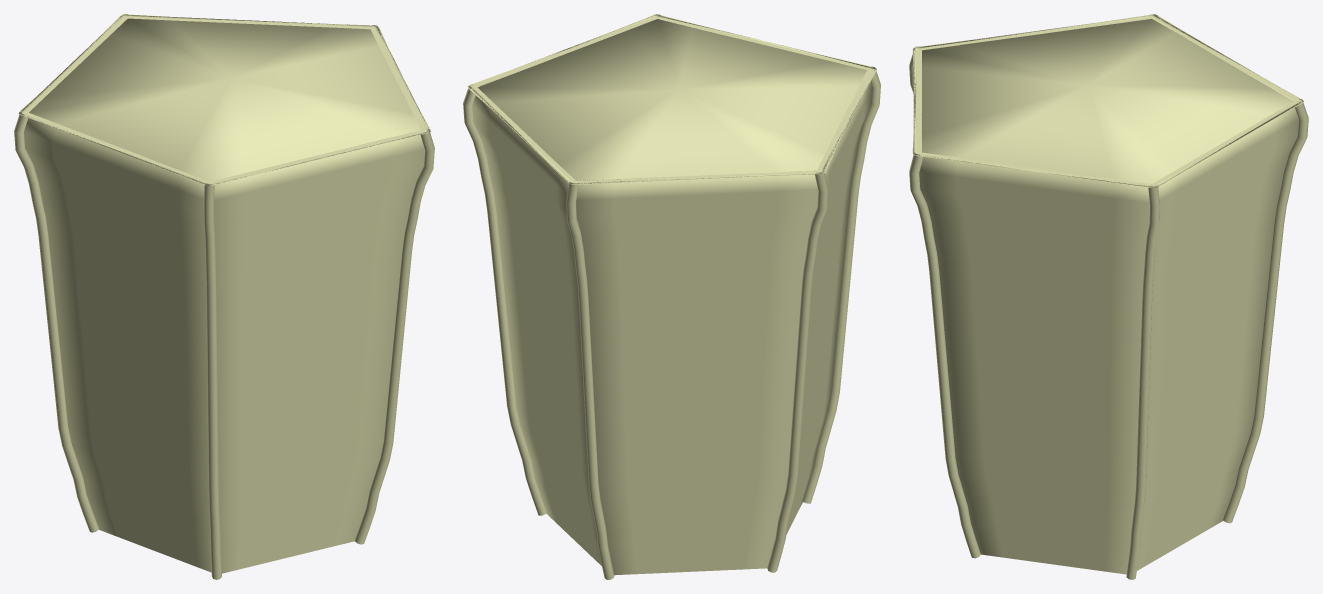
File: MORPHIC_Taiwan_Lantern_FINAL.fbx
The picture shows the model from 3 angles, left to right: view 1: azimuth 30°, elevation 25°; view 2: azimuth 150°, elevation 25°; view 3: azimuth 270°, elevation 25°; orthographic projection.
Visible parts, largest first — view 1: MORPHIC_Taiwan_Lantern; view 2: MORPHIC_Taiwan_Lantern; view 3: MORPHIC_Taiwan_Lantern.
Part boxes in pixels (x1,y1,x2,y2): MORPHIC_Taiwan_Lantern: (14, 14, 434, 579); MORPHIC_Taiwan_Lantern: (463, 14, 880, 579); MORPHIC_Taiwan_Lantern: (909, 14, 1308, 579).
Size of the model in its own units: 285 by 328 by 272.
